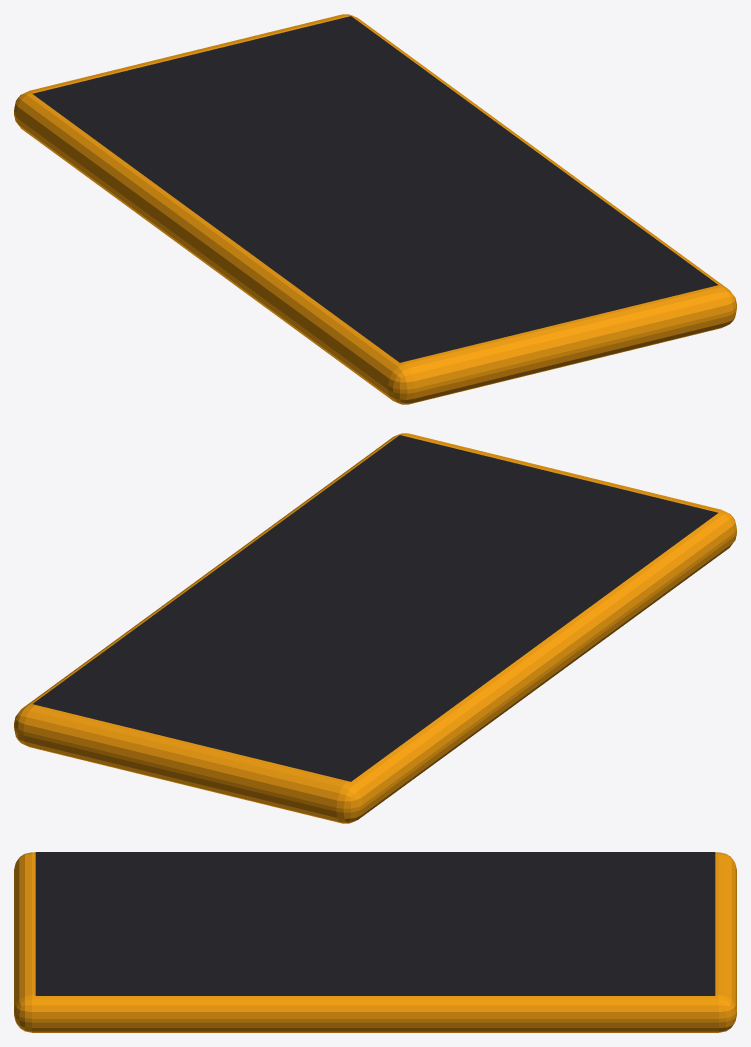
Rendered from tecno-spark-model-444-flagship-2024.glb.
3 renders of one model, top to bottom at view 1: azimuth 30°, elevation 25°; view 2: azimuth 150°, elevation 25°; view 3: azimuth 270°, elevation 25°, orthographic. The views are drawn at different scales.
Visible parts, largest first — view 1: Phone_Screen, Phone_Body; view 2: Phone_Screen, Phone_Body; view 3: Phone_Screen, Phone_Body.
Boxes of the visible parts, x1,y1,x2,y2 form: Phone_Screen: [32, 16, 717, 362]; Phone_Body: [14, 14, 736, 404]; Phone_Screen: [33, 435, 718, 781]; Phone_Body: [14, 433, 736, 823]; Phone_Screen: [35, 852, 715, 995]; Phone_Body: [14, 852, 736, 1032].
Bounding box in the file's own units: 0.0752 × 0.0082 × 0.147.
